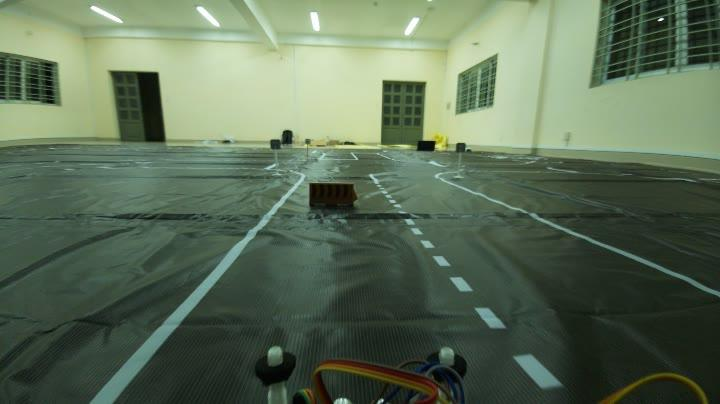roadblock: (302, 181, 361, 211)
